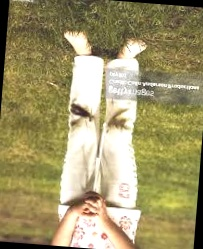earth: (70, 103, 95, 127), (107, 109, 129, 132)
